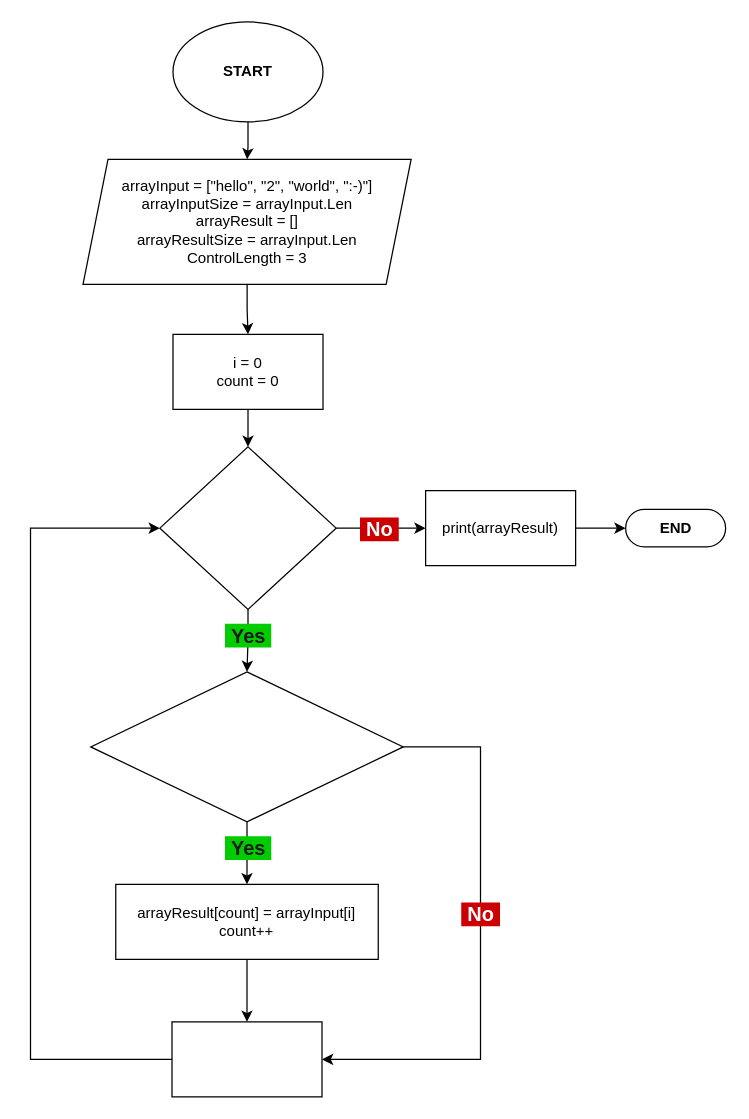
The diagram is 749 pixels wide and 1119 high, and some of its shapes have lost their labels. Here are the shapes that lost their labels. From the top down, the centre of each, then its label:
point 247,527: i < arrayInputSize ?
point 246,746: arrayInput[i] <= ControlLength ?
point 246,1059: i++
